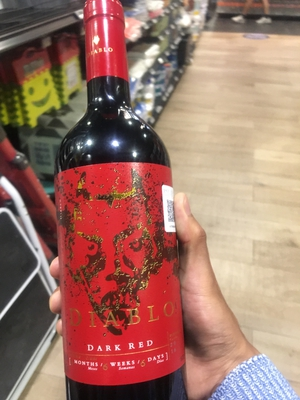diablo dark red: (53, 19, 207, 400)
